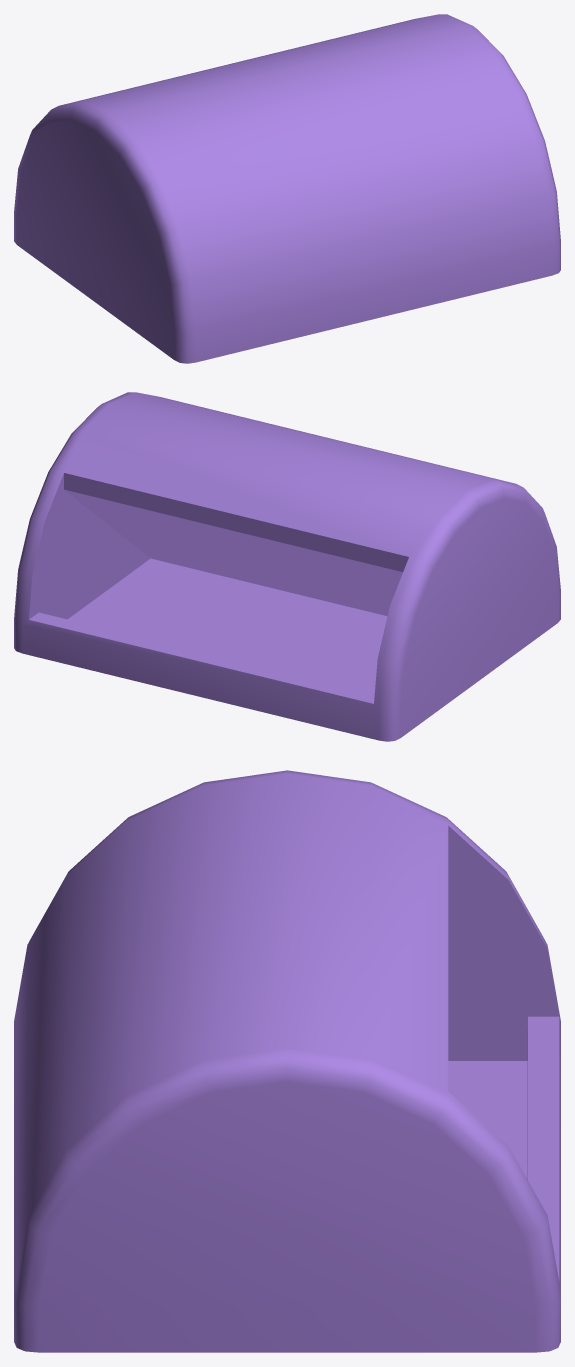
File: Breadbasket.FBX
The picture shows the model from 3 angles, top to bottom: view 1: azimuth 30°, elevation 25°; view 2: azimuth 150°, elevation 25°; view 3: azimuth 270°, elevation 25°; orthographic projection. The views are drawn at different scales.
Visible parts, largest first — view 1: Breadbasket; view 2: Breadbasket; view 3: Breadbasket.
Part boxes in pixels (x1,y1,x2,y2): Breadbasket: (14,14,560,363); Breadbasket: (14,392,560,741); Breadbasket: (14,770,560,1352).
Size of the model in its own units: 8.89 by 4.12 by 6.95.
